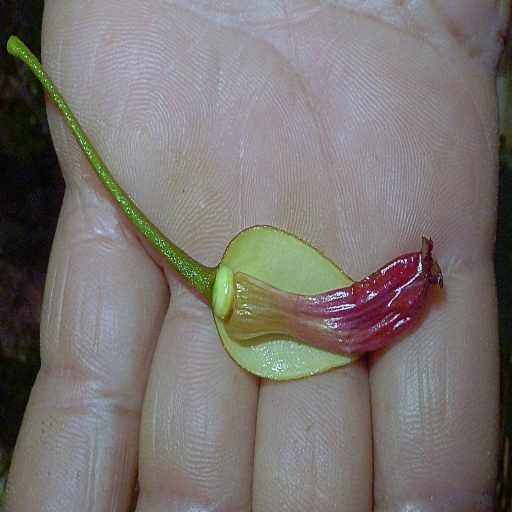hand: (1, 0, 511, 511)
